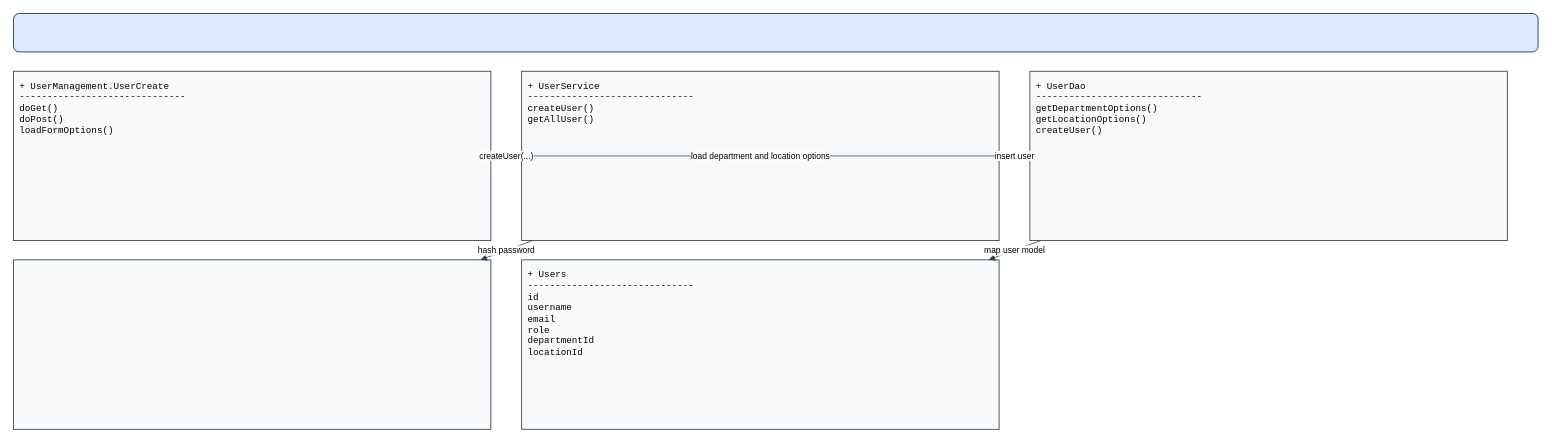
The diagram is 1552 pixels wide and 443 high, and some of its shapes have lost their labels. Here are the shapes that lost their labels. From the top down, the centre of each, then its label:
At (x=775, y=32): "Class Diagram - Create User Account".
At (x=252, y=344): "+ PasswordUtil ------------------------------ sha256()".
